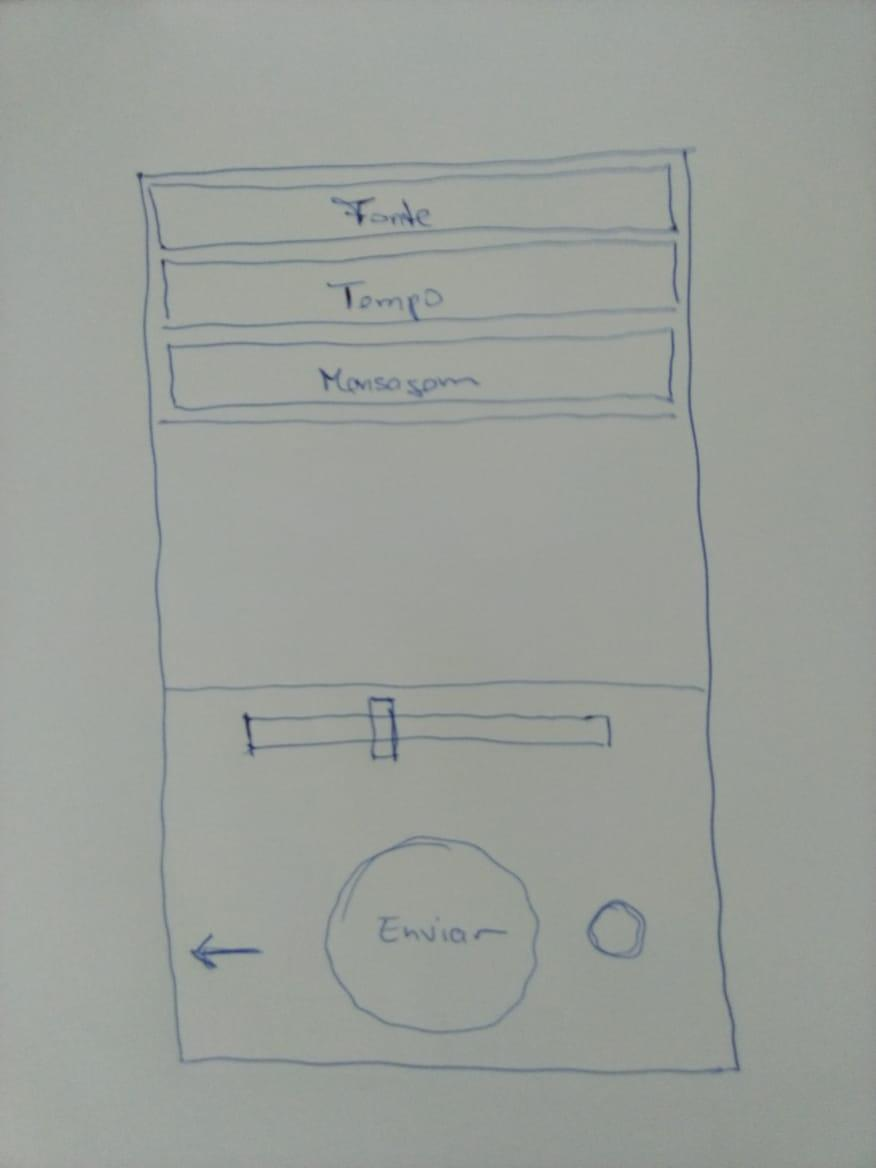Button: (148, 163, 677, 252), (162, 239, 681, 329), (319, 835, 540, 1033), (167, 328, 678, 410), (583, 897, 648, 961)
Label: (190, 931, 262, 970)
Screen: (136, 145, 740, 1075)
Slider: (242, 695, 611, 761)
